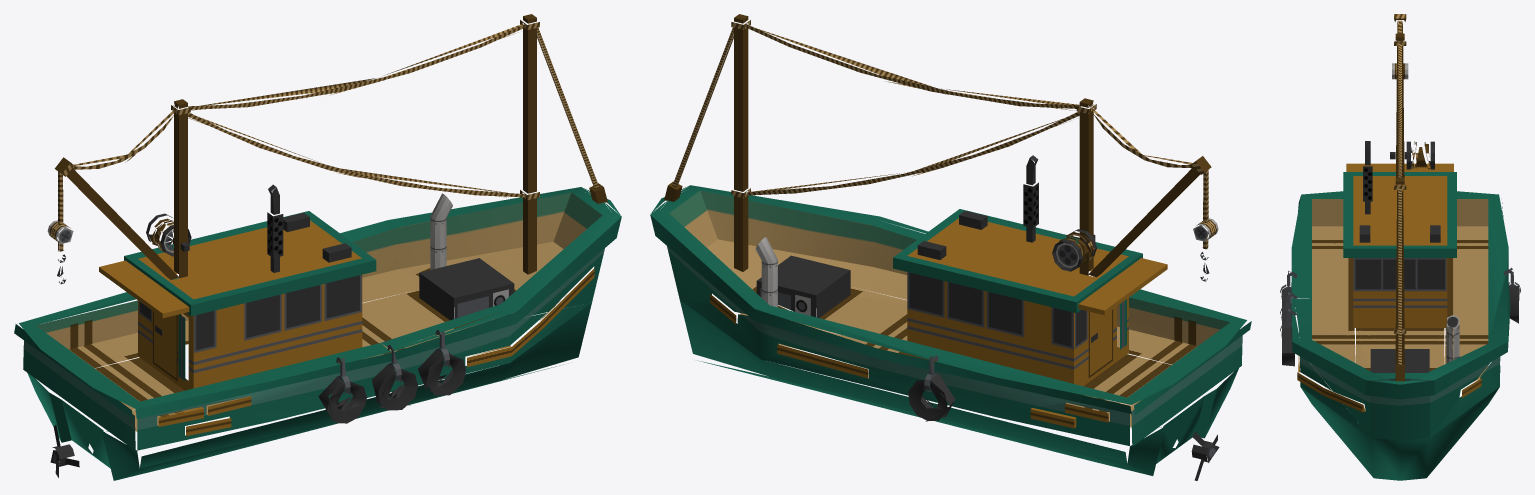
Rendered from fishing_boat.glb.
3 views of the same model, side by side, from view 1: azimuth 30°, elevation 25°; view 2: azimuth 150°, elevation 25°; view 3: azimuth 270°, elevation 25° (orthographic). The views are drawn at different scales.
Visible parts, largest first — view 1: Boat; view 2: Boat; view 3: Boat.
Part boxes in pixels (<box>): Boat: <box>14,14,621,480</box>; Boat: <box>650,14,1251,480</box>; Boat: <box>1280,14,1520,480</box>.
Bounding box in the file's own units: 928 × 558 × 410.
1 material, 1 textured.
